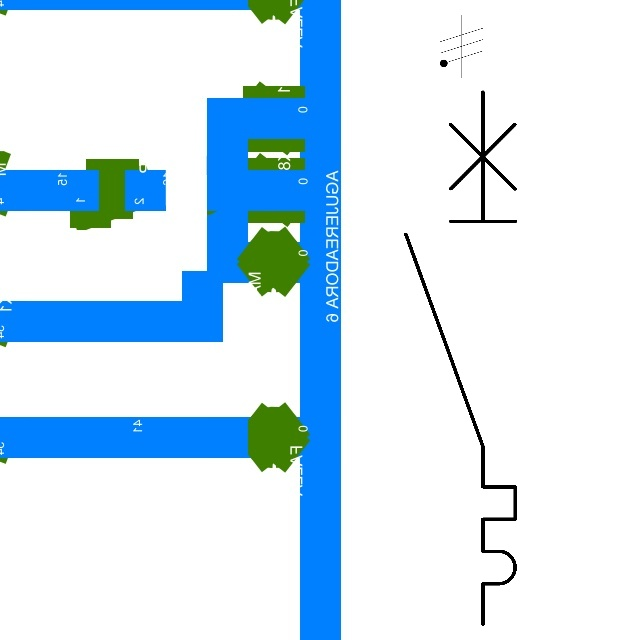interruptor_termomagnetico: (392, 78, 529, 638)
